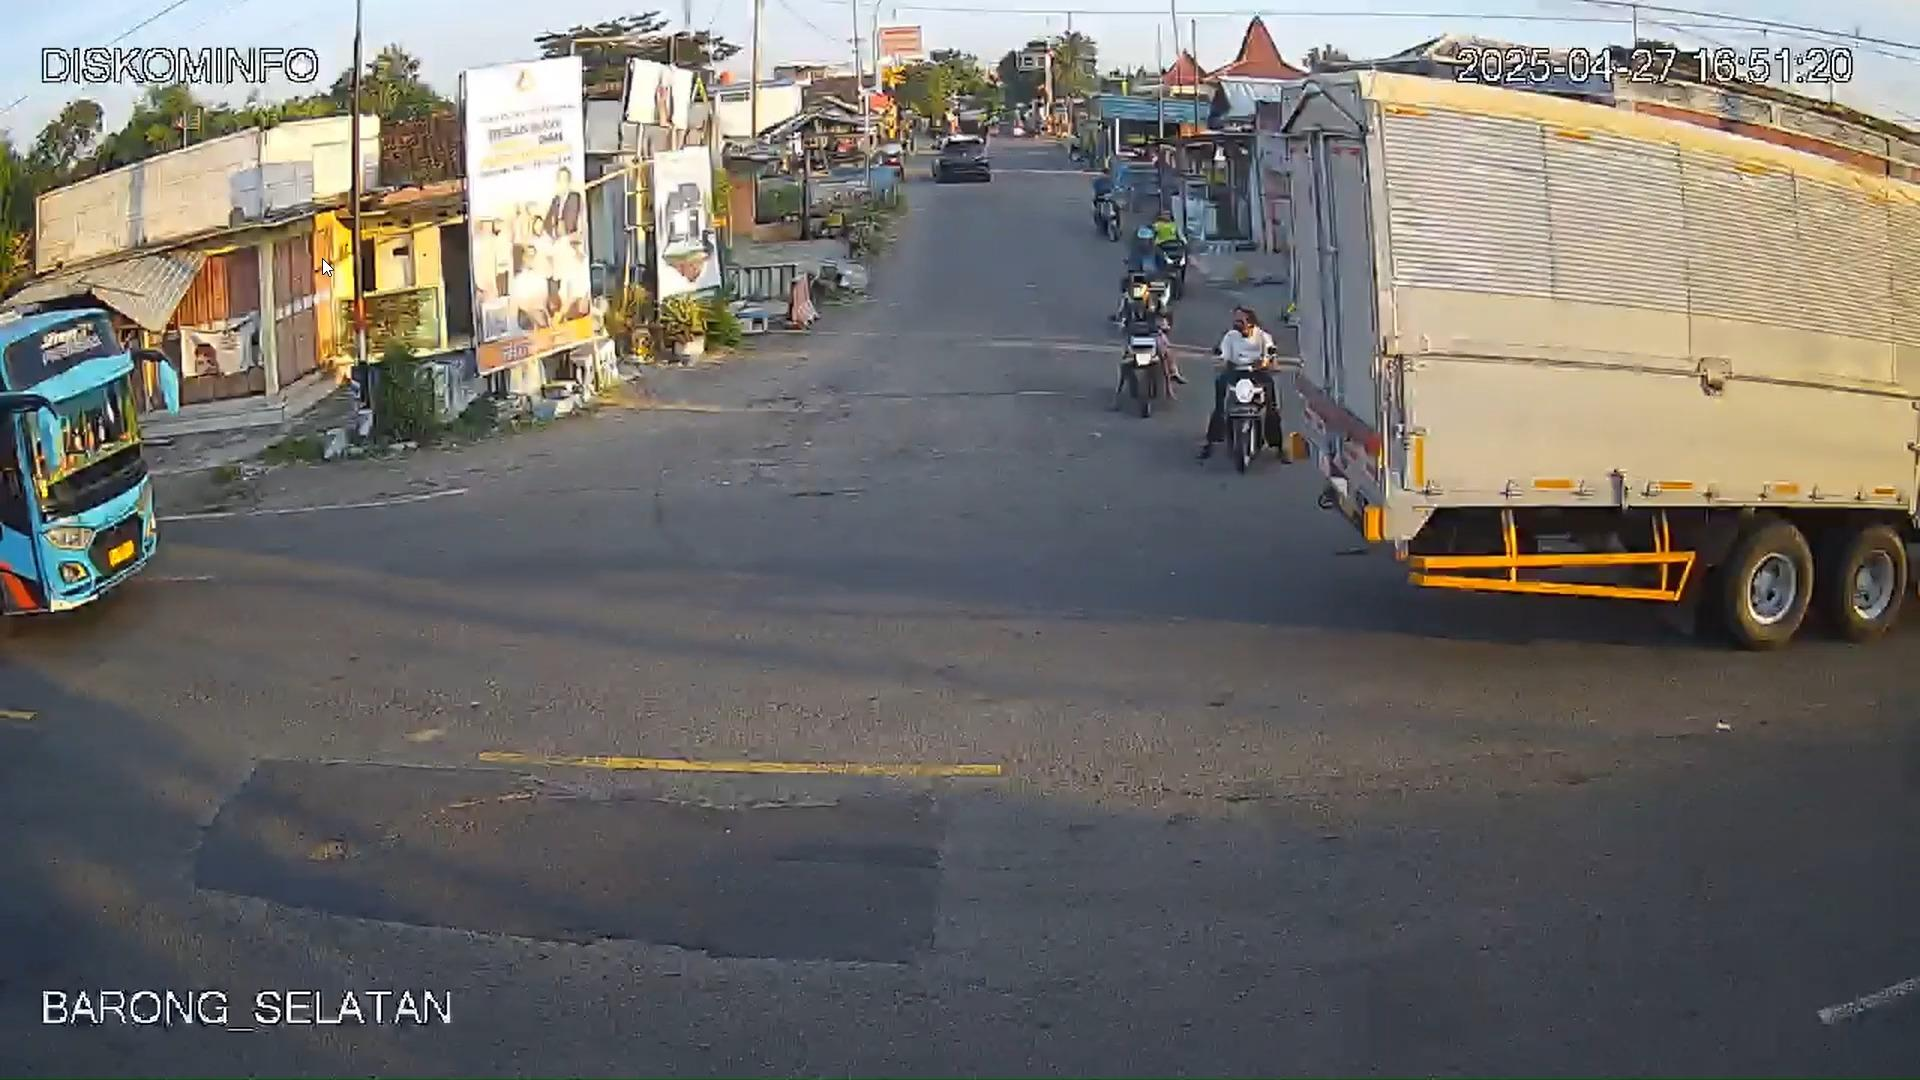Bus: (0, 299, 186, 618)
Motor: (1195, 306, 1283, 460), (1112, 286, 1179, 414)
Truck: (1245, 46, 1920, 653)
